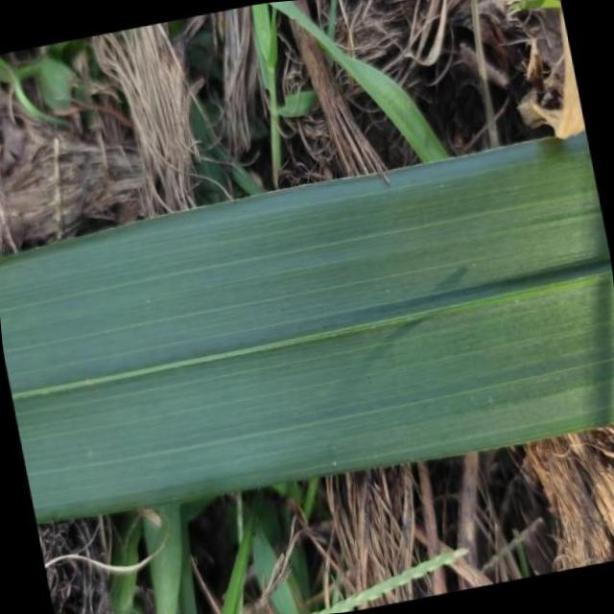Healthy: (0, 133, 614, 526)
